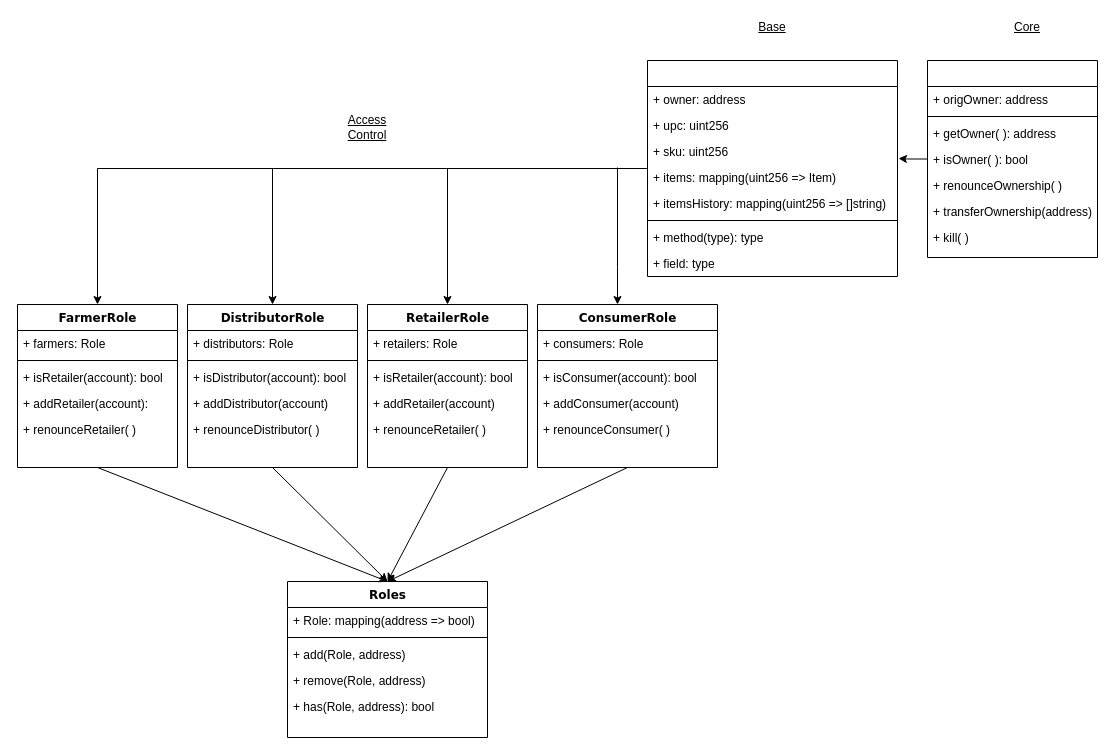
This 1115x755 diagram has some shape labels left out. The shapes that lost their labels are listed below. From the top down, each one's box as (x1, y1, x2, y2) in pixels, then its label:
(646, 60, 898, 276): Supply Chain
(926, 60, 1098, 258): Ownable
